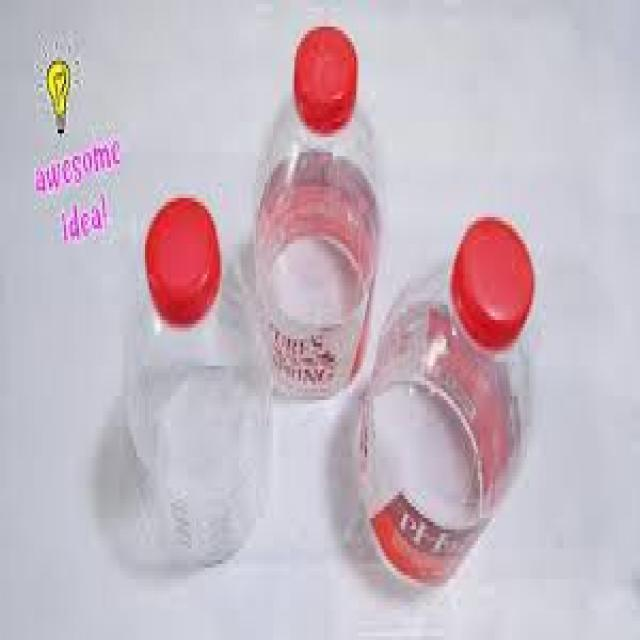Plastic: (358, 212, 538, 590), (126, 195, 276, 568), (253, 18, 377, 408)
